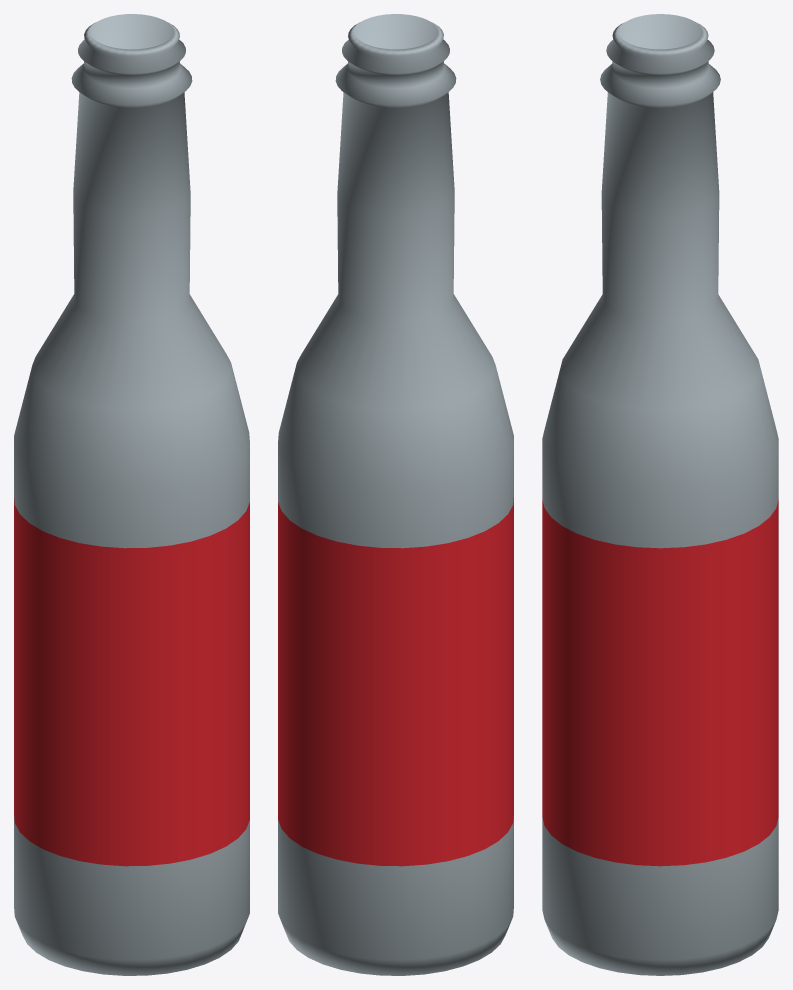
Rendered from Bottles.fbx.
The picture shows the model from 3 angles, left to right: view 1: azimuth 30°, elevation 25°; view 2: azimuth 150°, elevation 25°; view 3: azimuth 270°, elevation 25°; orthographic projection.
Parts seen in each view (by area): view 1: Cylinder; view 2: Cylinder; view 3: Cylinder.
Part boxes in pixels (left/top/right/bottom): Cylinder: left=14, top=14, right=249, bottom=975; Cylinder: left=278, top=14, right=513, bottom=975; Cylinder: left=542, top=14, right=778, bottom=975.
Size of the model in its own units: 9.73 by 40.75 by 9.73.
